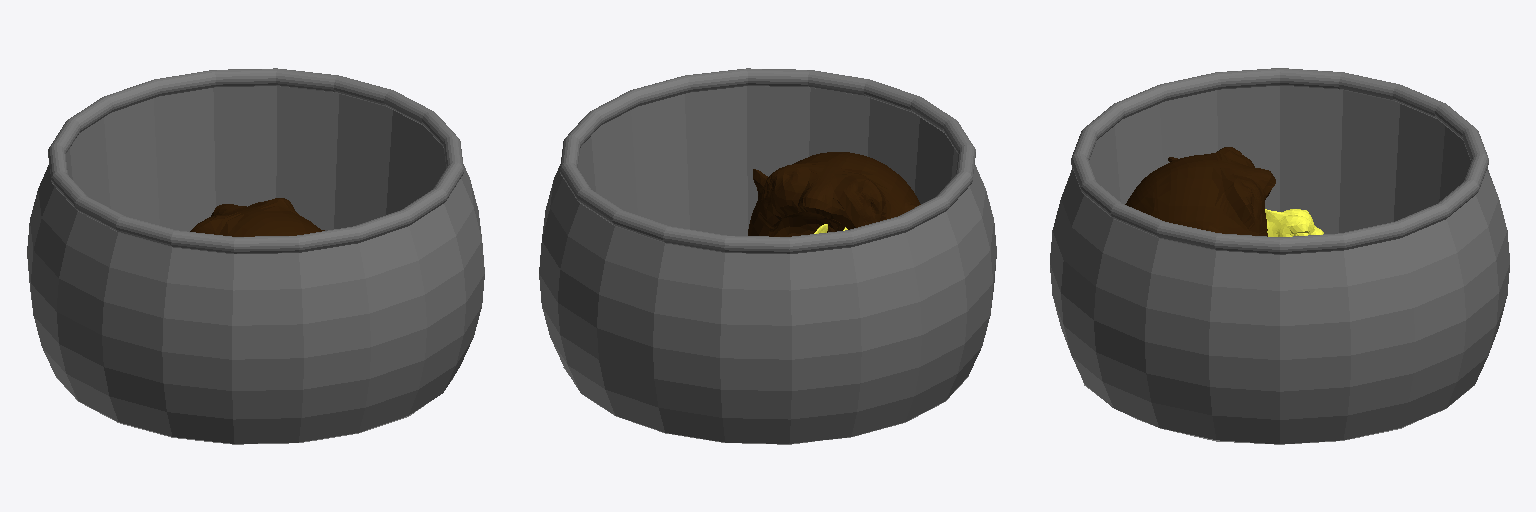
The model's file is FishInBowlTexture.obj.
3 views of the same model, side by side, from view 1: azimuth 30°, elevation 25°; view 2: azimuth 150°, elevation 25°; view 3: azimuth 270°, elevation 25° (orthographic).
Parts seen in each view (by area): view 1: Lab06Goldfish:Fish_bowl, CastleModel; view 2: Lab06Goldfish:Fish_bowl, CastleModel; view 3: Lab06Goldfish:Fish_bowl, CastleModel, Lab06Goldfish:Fish.
Part boxes in pixels (x1,y1,x2,y2): Lab06Goldfish:Fish_bowl: (27, 68, 484, 444); CastleModel: (190, 198, 324, 236); Lab06Goldfish:Fish_bowl: (539, 68, 996, 444); CastleModel: (748, 152, 920, 236); Lab06Goldfish:Fish_bowl: (1050, 68, 1509, 444); CastleModel: (1125, 147, 1275, 236); Lab06Goldfish:Fish: (1265, 209, 1323, 236).
Size of the model in its own units: 16.74 by 8.22 by 16.74.